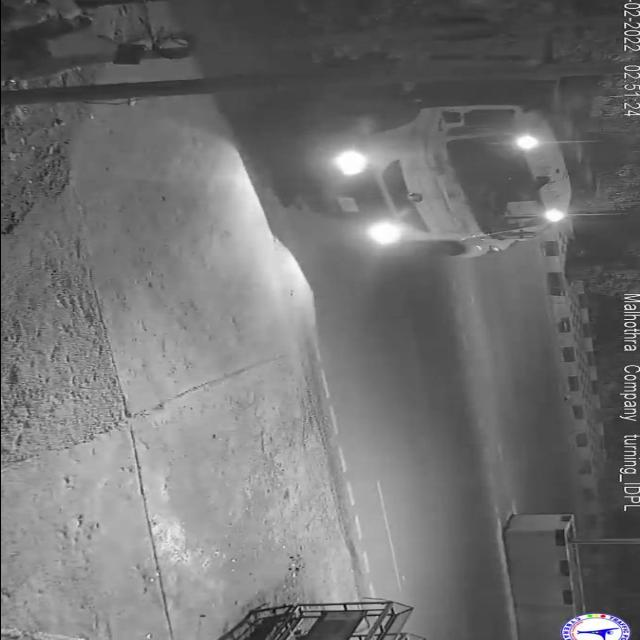accident: (286, 0, 593, 260)
